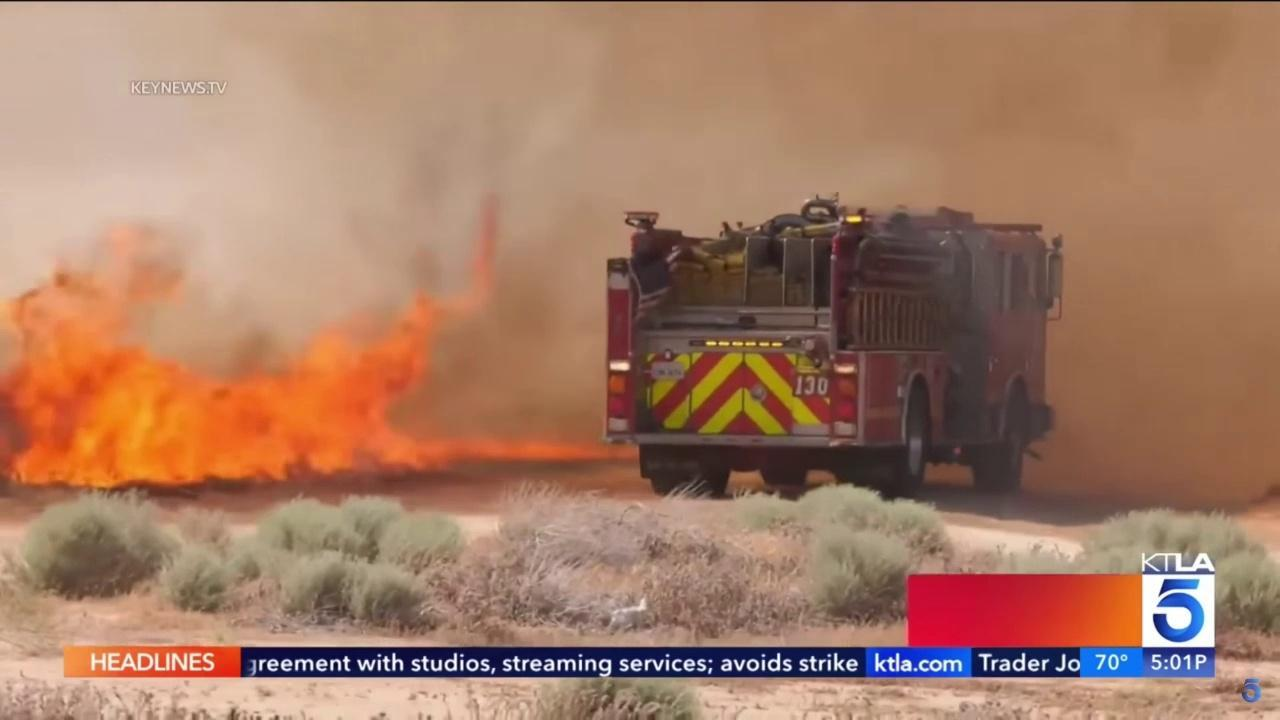fire: (0, 191, 637, 495)
smoke: (0, 0, 1280, 524)
